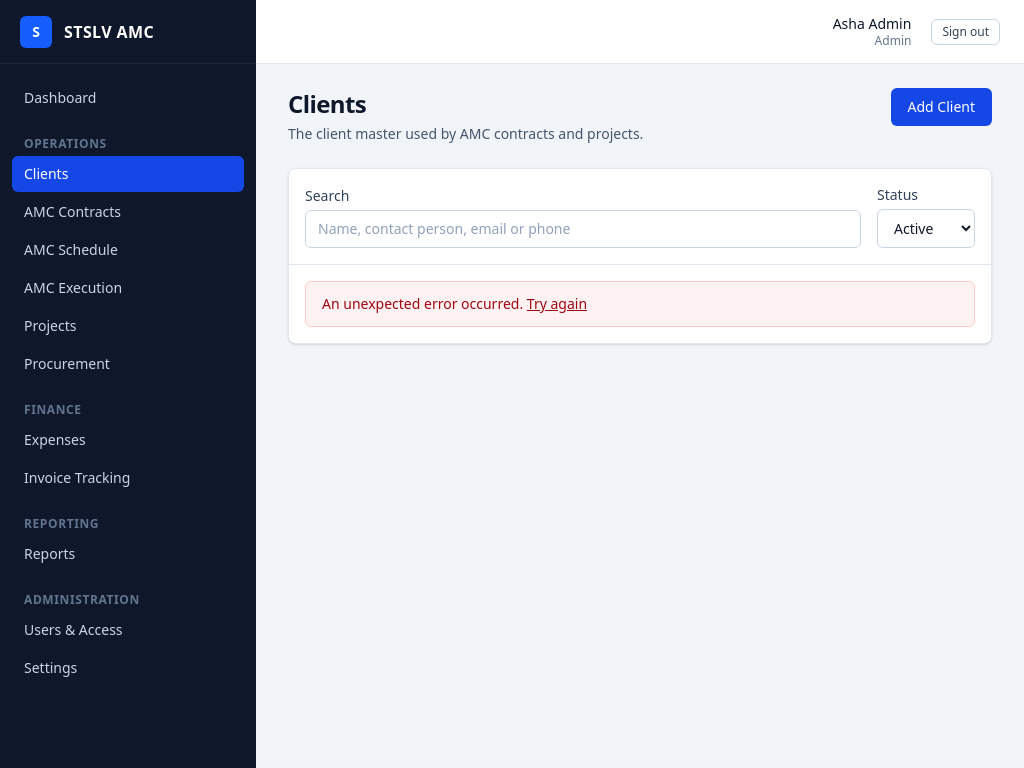
Test: client list › shows an error with a retry when the list cannot be loaded
Check: the message shows "An unexpected error occurred.", box [322,294,523,313]
Click the button "Try again". click: (557, 304)
box: [527,294,587,314]
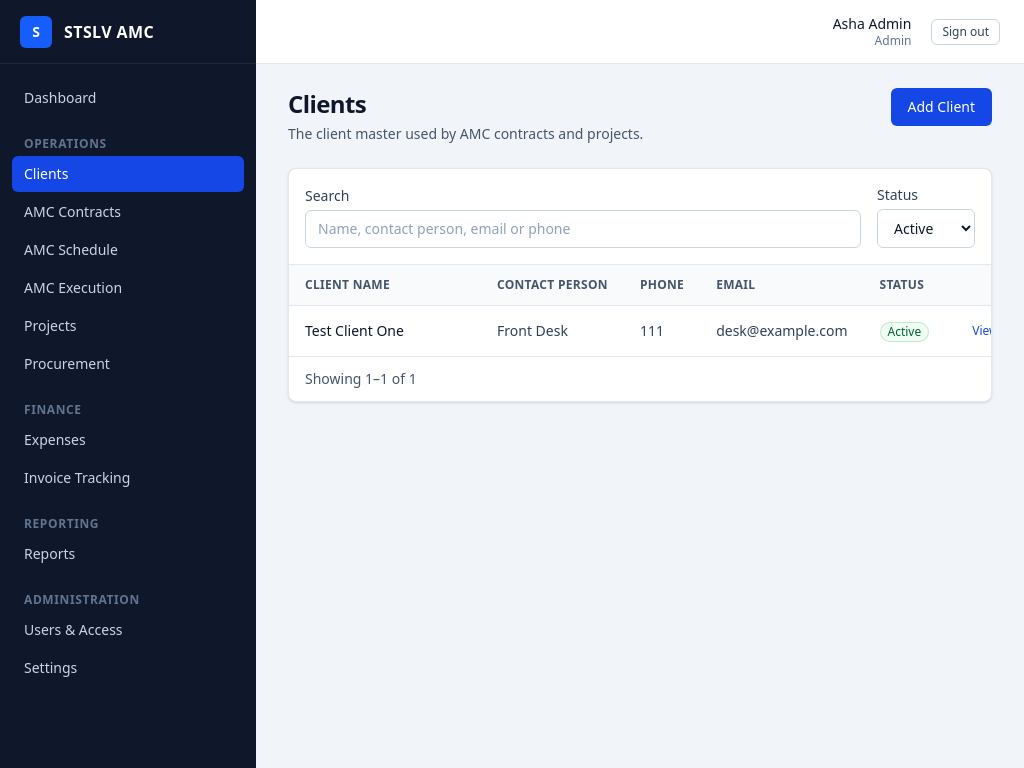
Check: the text "Test Client One" is shown, box [289,306,481,356]
